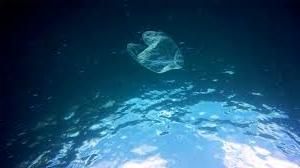Trash: (115, 24, 186, 77)
